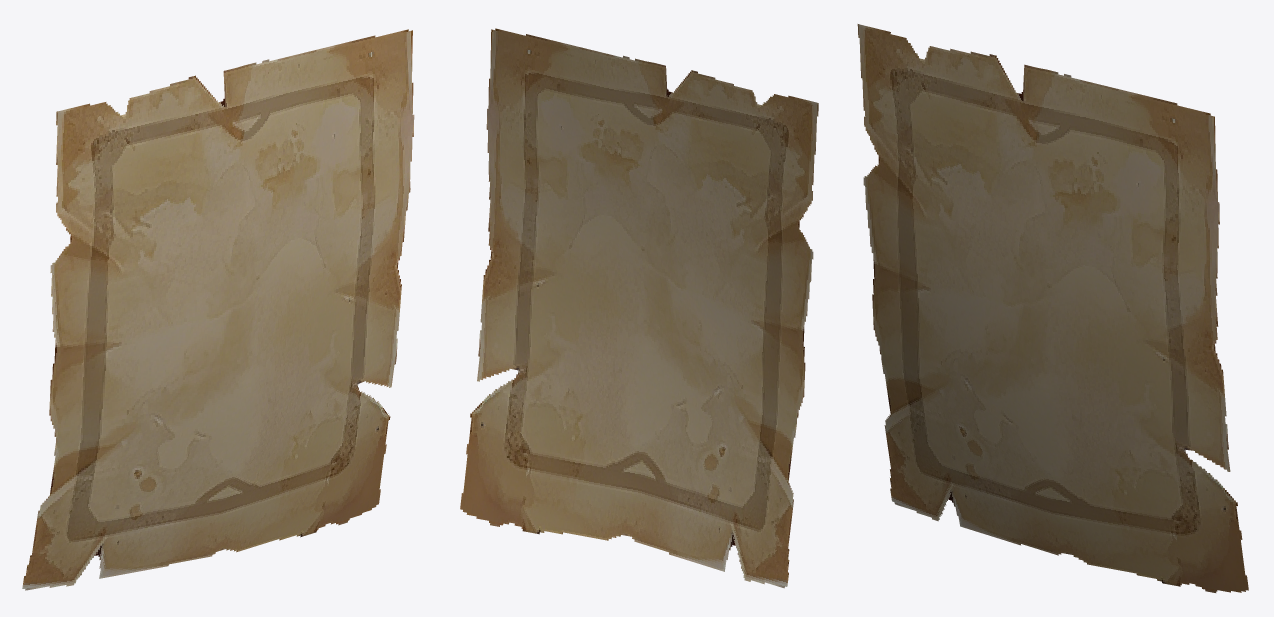
The model's file is scroll.glb.
3 views of the same model, side by side, from view 1: azimuth 30°, elevation 25°; view 2: azimuth 150°, elevation 25°; view 3: azimuth 330°, elevation 25° (orthographic). The views are drawn at different scales.
Parts seen in each view (by area): view 1: body; view 2: body; view 3: body.
Boxes of the visible parts, left/top/right/bottom form: body: left=22, top=29, right=414, bottom=590; body: left=460, top=28, right=818, bottom=588; body: left=857, top=24, right=1248, bottom=592.
Bounding box in the file's own units: 1.66 × 2.24 × 0.3462.
Materials: 1 (1 with a texture image).
